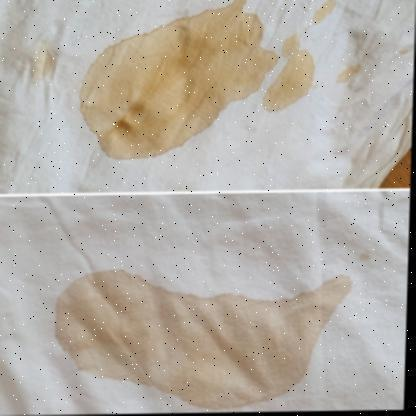coffee: (74, 299, 322, 380), (100, 52, 201, 124), (203, 17, 261, 89)
